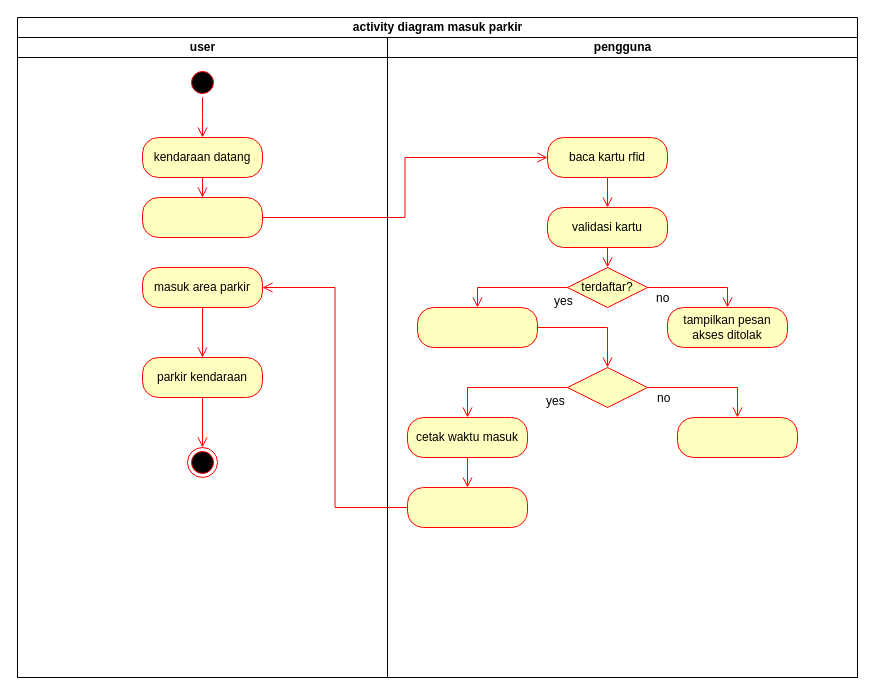
Some shapes in this 875 by 695 pixel diagram are drawn without their labels. Here are the shapes that lost their labels. From the top down, the centre of each, then its label:
At (202,217): "scan kartu rfid".
At (477,327): "cek slot parkir".
At (607,387): "tersedia?".
At (737,437): "tampilkan pesan slot parkir penuh".
At (467,507): "gerbang terbuka".
